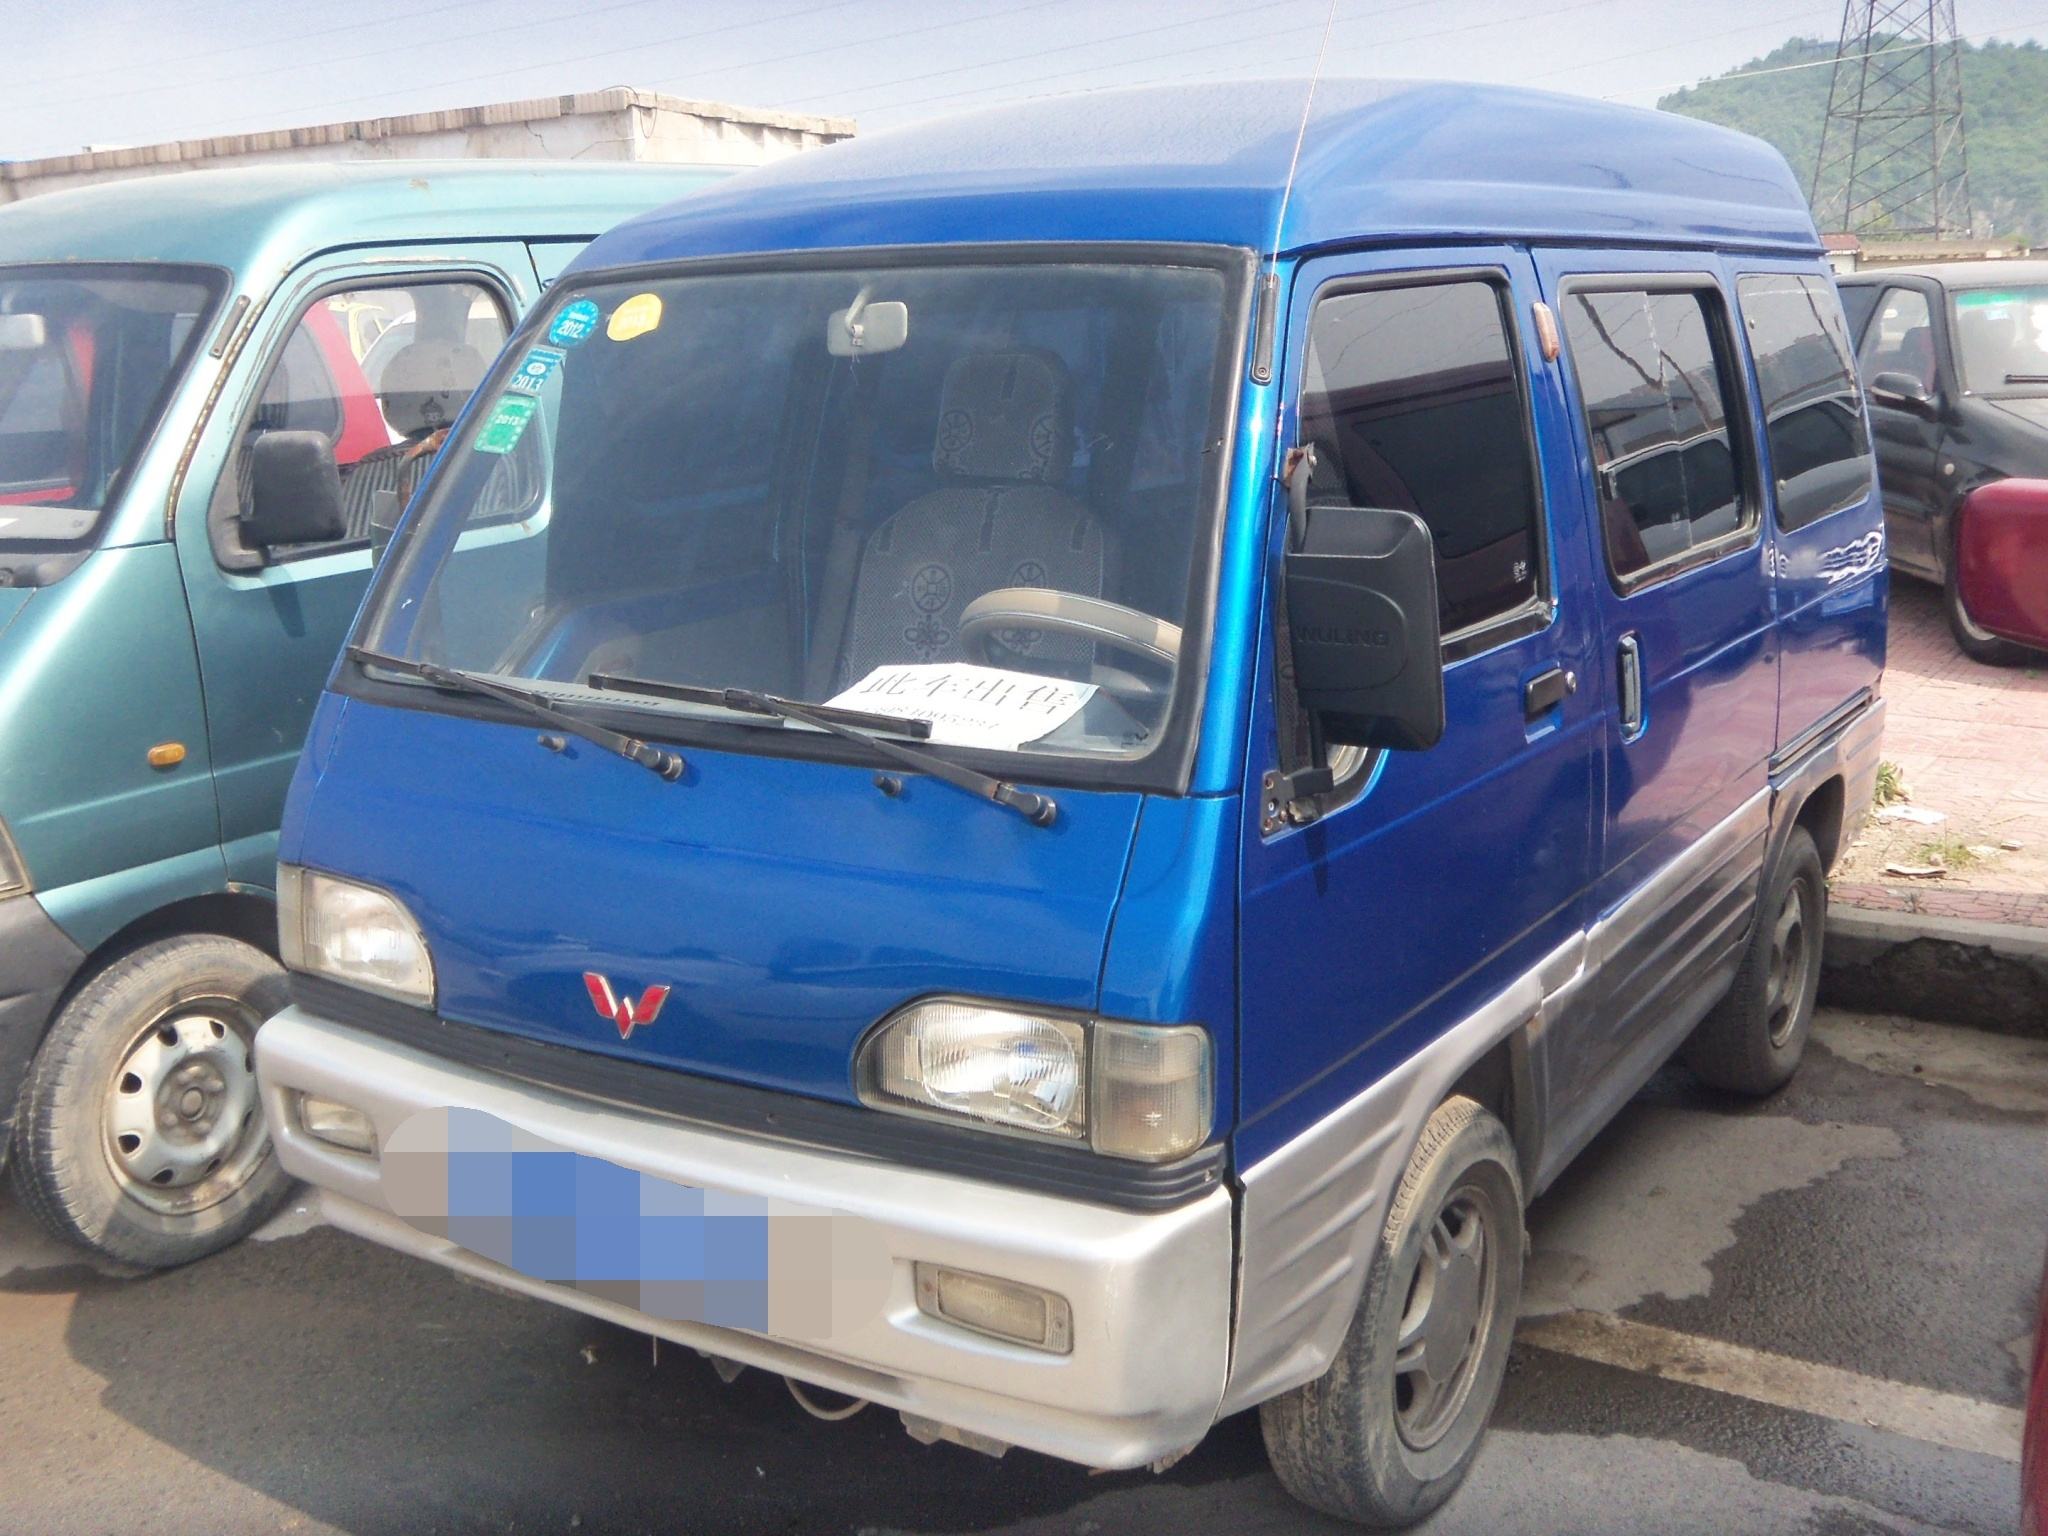minibus: (305, 97, 1909, 1499)
